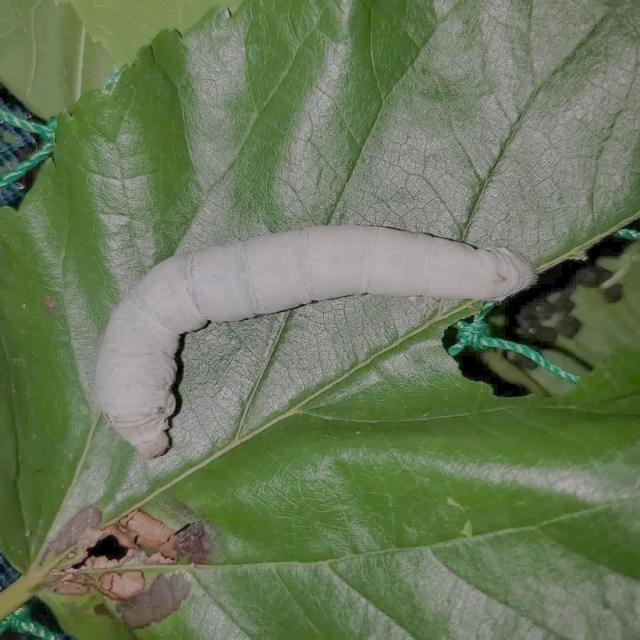Healthy: (80, 172, 558, 481)
